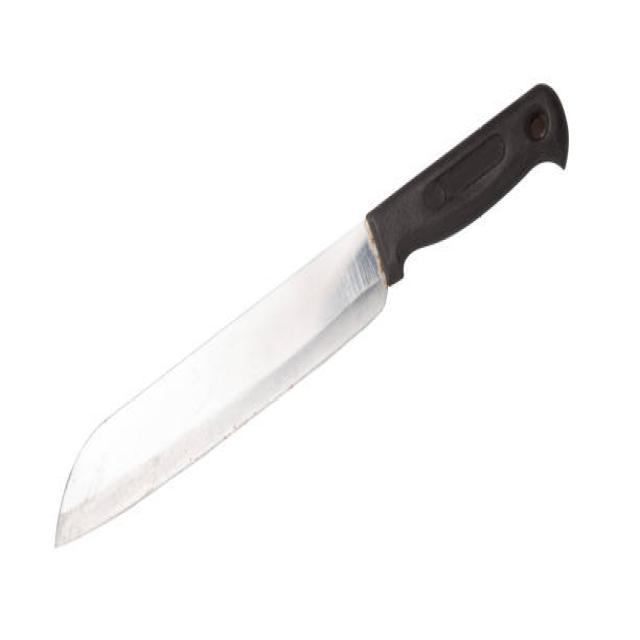knife: (46, 75, 579, 569)
